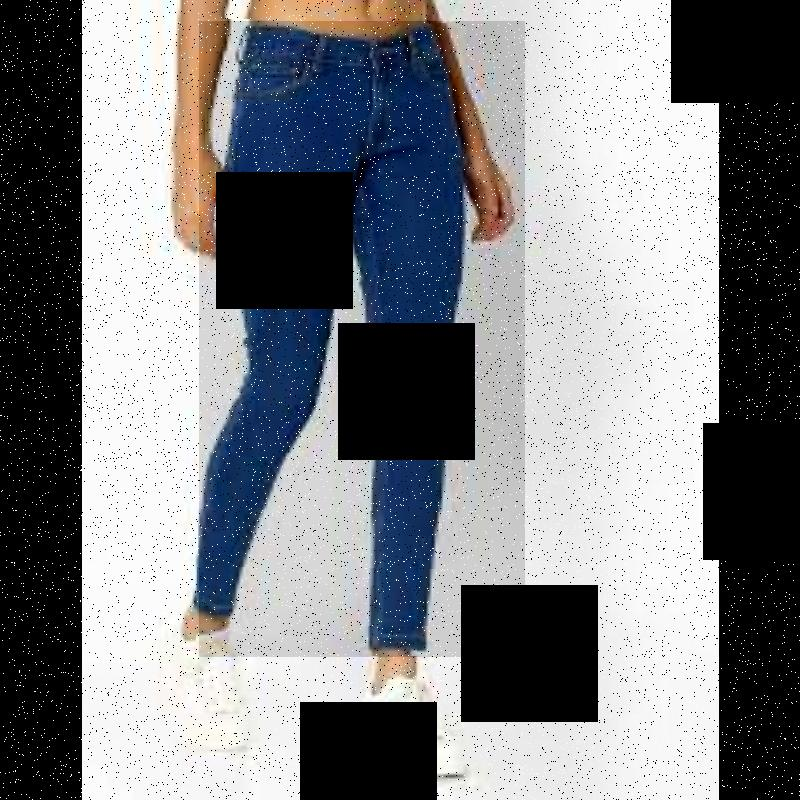Jeans: (199, 21, 525, 657)
